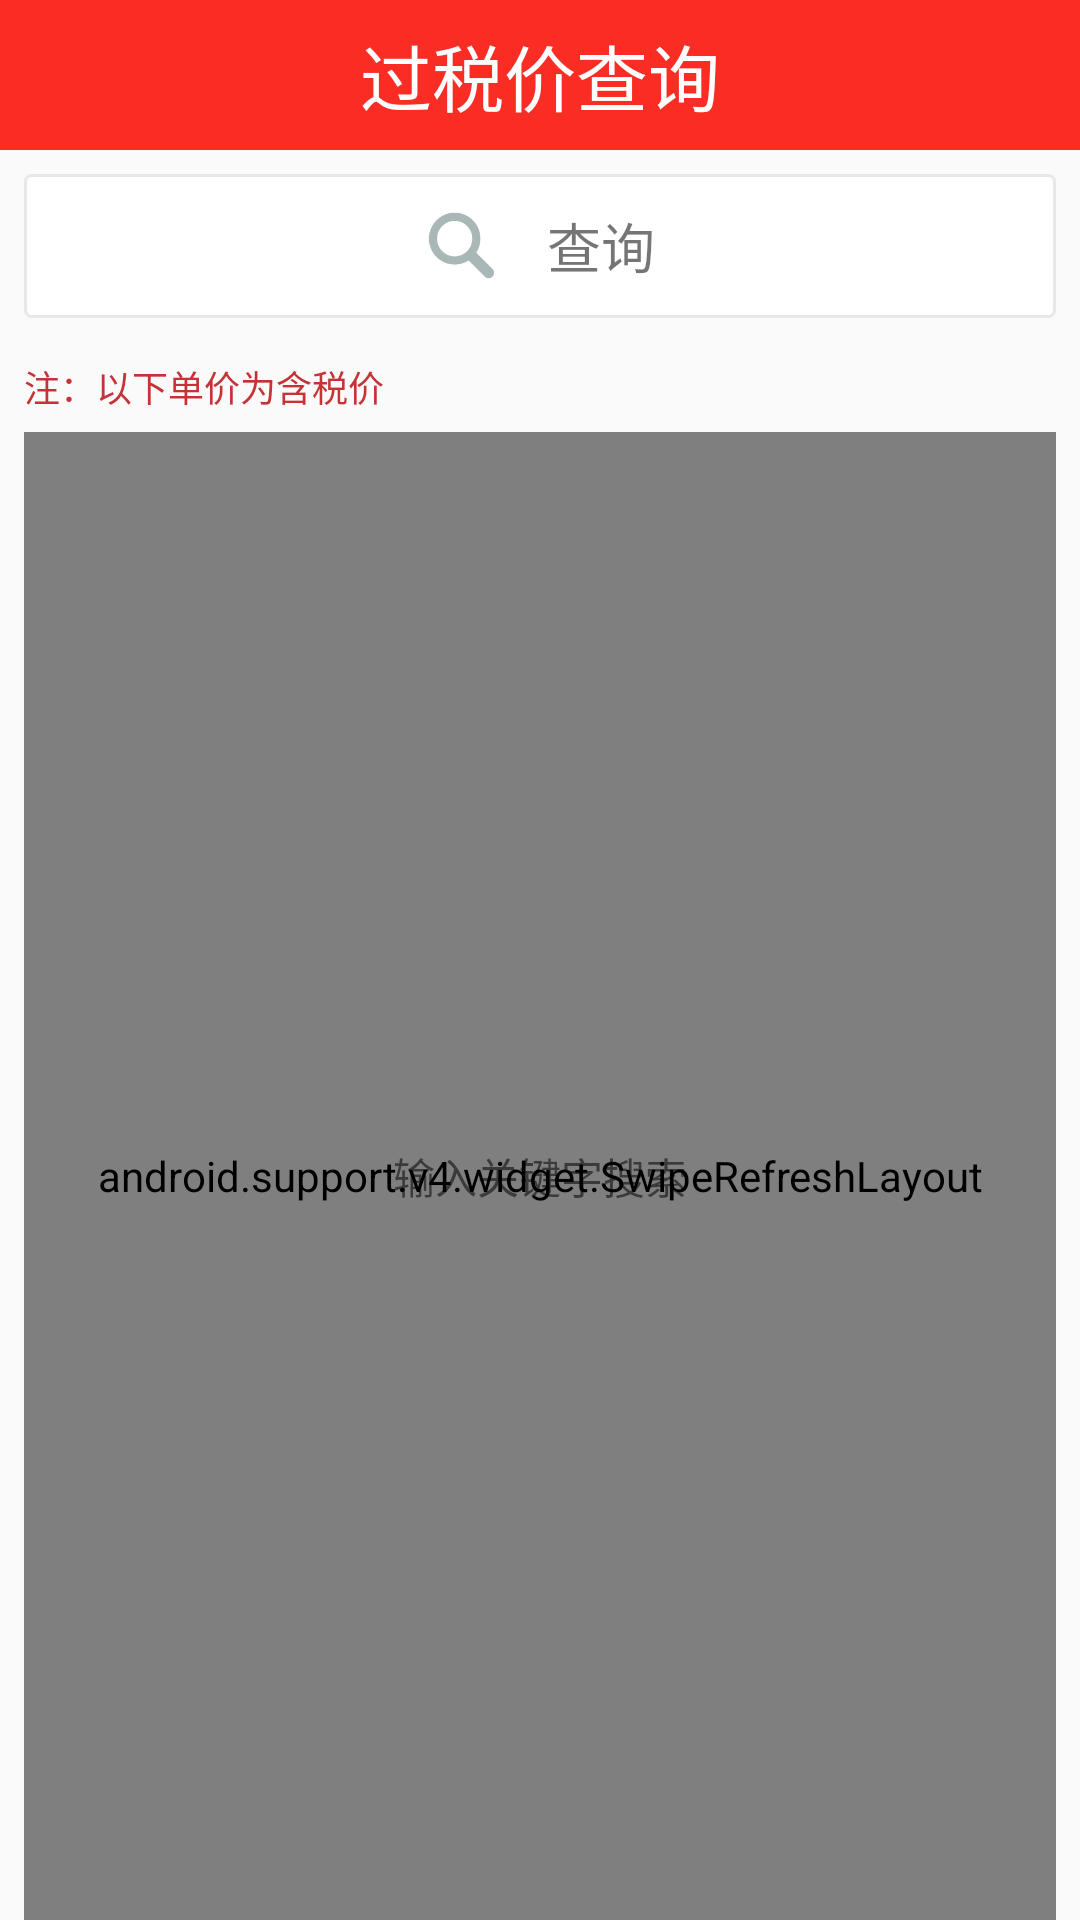

Where to tap for icons on this 1080 × 1920 app screen, as (x,y):
search: (461,245)
